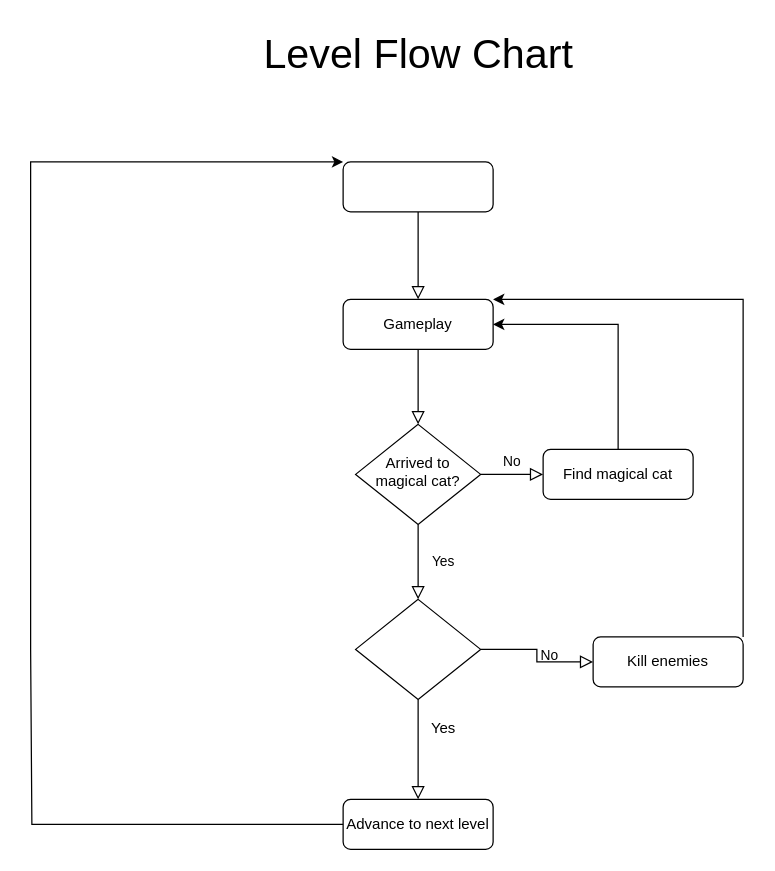
This 775x871 diagram has some shape labels left out. Each missing label, with the box of its shape:
Cutscene: (342, 161, 493, 212)
Have 100 Gems?: (354, 598, 481, 699)
